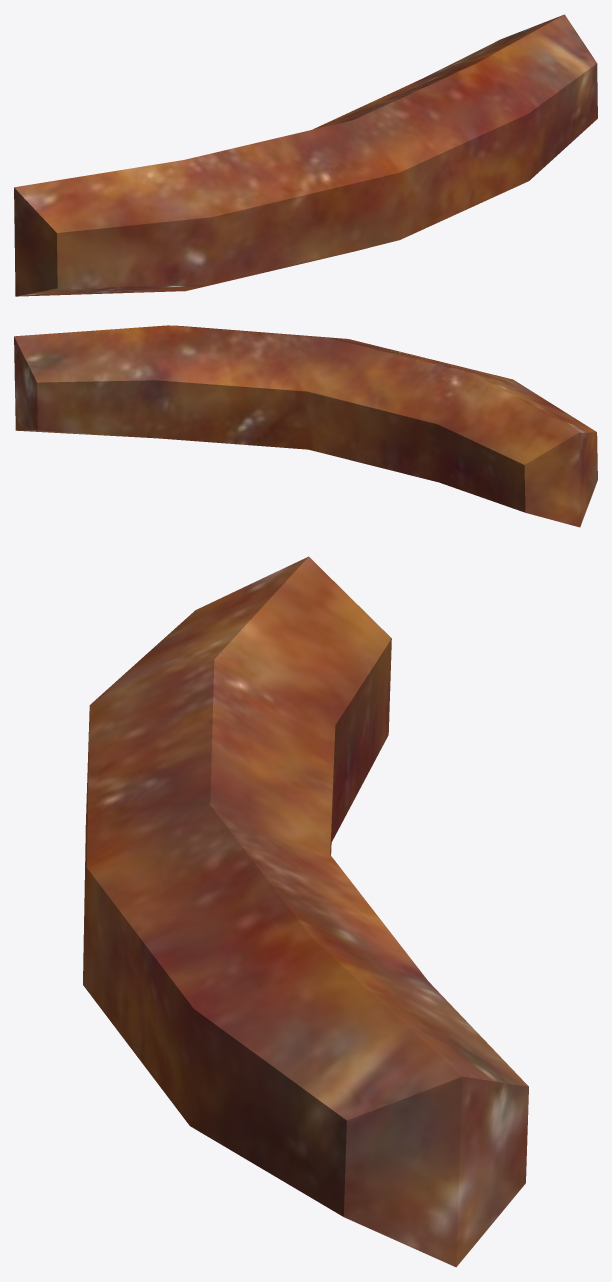
File: Sausage_single.fbx
3 renders of one model, top to bottom at view 1: azimuth 30°, elevation 25°; view 2: azimuth 150°, elevation 25°; view 3: azimuth 270°, elevation 25°, orthographic. The views are drawn at different scales.
Parts seen in each view (by area): view 1: Sausage_single; view 2: Sausage_single; view 3: Sausage_single.
Boxes of the visible parts, x1,y1,x2,y2 form: Sausage_single: (14, 14, 597, 296); Sausage_single: (14, 325, 597, 527); Sausage_single: (83, 556, 528, 1267).
Size of the model in its own units: 0.2061 by 0.0437 by 0.0757.
